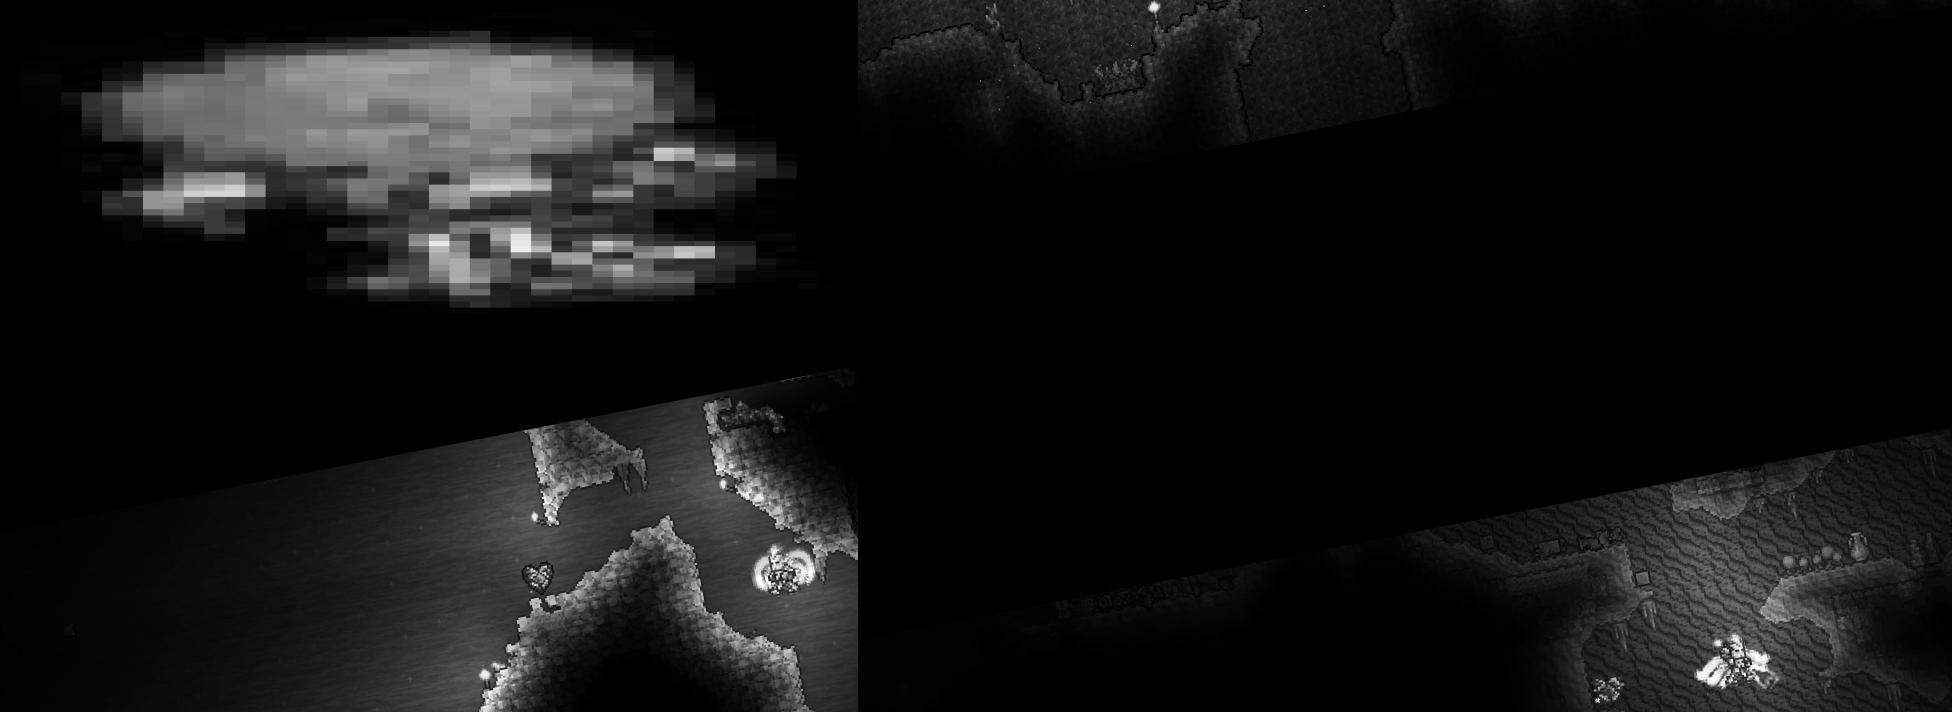pot: (1841, 523, 1877, 570)
zombie: (0, 0, 858, 320)
